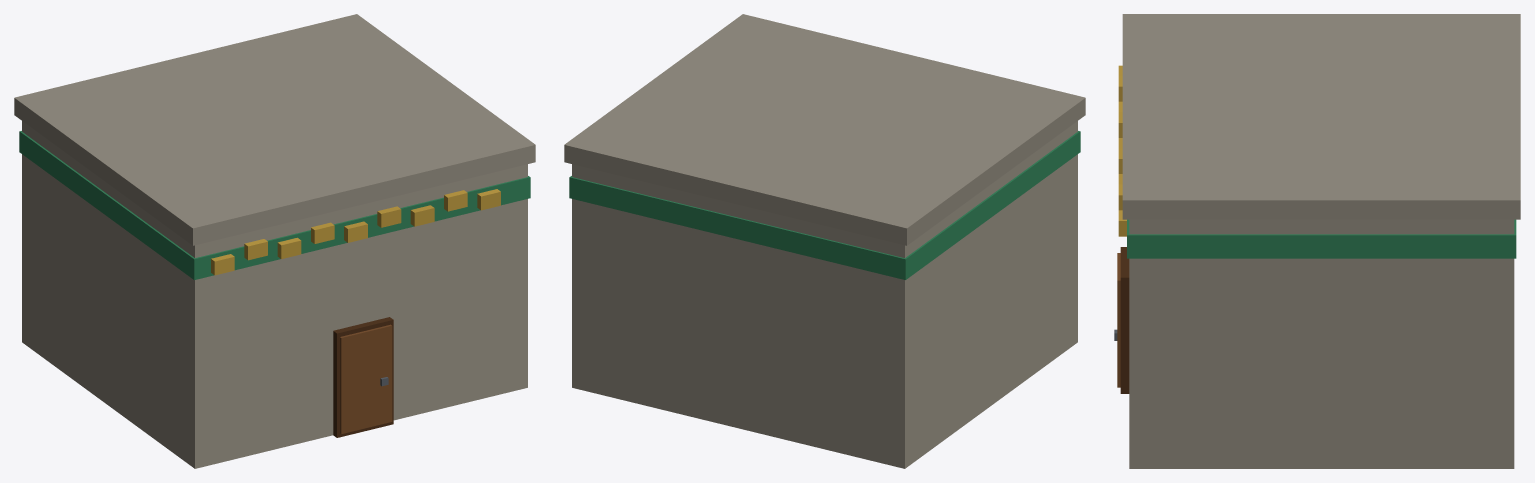
The model's file is frog_house_a_broken.glb.
The picture shows the model from 3 angles, left to right: view 1: azimuth 30°, elevation 25°; view 2: azimuth 150°, elevation 25°; view 3: azimuth 270°, elevation 25°; orthographic projection. The views are drawn at different scales.
Visible parts, largest first — view 1: frog_house_a_piece1, frog_house_a_piece2, frog_house_a_piece0, frog_house_a_piece8, frog_house_a_piece5, frog_house_a_piece7, frog_house_a_piece3, frog_house_a_piece6, frog_house_a_piece4; view 2: frog_house_a_piece2, frog_house_a_piece6, frog_house_a_piece8, frog_house_a_piece3, frog_house_a_piece0, frog_house_a_piece7, frog_house_a_piece4, frog_house_a_piece5; view 3: frog_house_a_piece3, frog_house_a_piece5, frog_house_a_piece2, frog_house_a_piece7, frog_house_a_piece0, frog_house_a_piece6, frog_house_a_piece4, frog_house_a_piece1.
Boxes of the visible parts, x1,y1,x2,y2 form: frog_house_a_piece1: (194, 164, 501, 468); frog_house_a_piece2: (14, 66, 321, 387); frog_house_a_piece0: (129, 142, 332, 348); frog_house_a_piece8: (85, 236, 274, 467); frog_house_a_piece5: (407, 104, 535, 393); frog_house_a_piece7: (247, 108, 473, 308); frog_house_a_piece3: (260, 18, 479, 159); frog_house_a_piece6: (142, 14, 362, 74); frog_house_a_piece4: (102, 108, 296, 326); frog_house_a_piece2: (705, 119, 1015, 468); frog_house_a_piece6: (564, 127, 833, 451); frog_house_a_piece8: (968, 203, 1077, 422); frog_house_a_piece3: (570, 54, 909, 391); frog_house_a_piece0: (838, 84, 1085, 205); frog_house_a_piece7: (700, 50, 1031, 89); frog_house_a_piece4: (788, 107, 1030, 334); frog_house_a_piece5: (687, 14, 845, 54); frog_house_a_piece3: (1240, 80, 1514, 468); frog_house_a_piece5: (1118, 137, 1408, 468); frog_house_a_piece2: (1279, 14, 1520, 152); frog_house_a_piece7: (1118, 43, 1241, 194); frog_house_a_piece0: (1118, 14, 1244, 119); frog_house_a_piece6: (1403, 83, 1520, 294); frog_house_a_piece4: (1243, 14, 1339, 123); frog_house_a_piece1: (1114, 119, 1150, 393).
Bounding box in the file's own units: 2.06 × 1.4 × 1.9.
